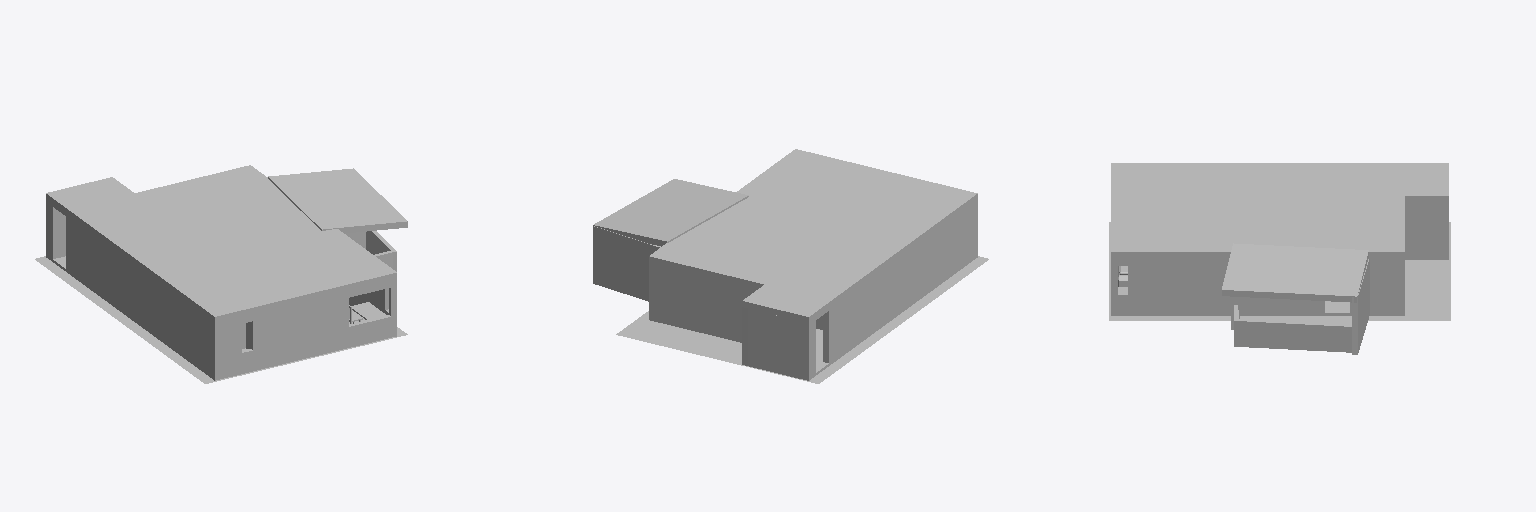
Rendered from OttoBrandt_2019-01-11.obj.
The picture shows the model from 3 angles: view 1: azimuth 30°, elevation 25°; view 2: azimuth 150°, elevation 25°; view 3: azimuth 270°, elevation 25°; orthographic projection.
Visible parts, largest first — view 1: roof_Cube.002, wall_outer_Cube, Plane; view 2: roof_Cube.002, wall_outer_Cube, Plane; view 3: roof_Cube.002, wall_outer_Cube, Plane.
Part boxes in pixels (x1,y1,x2,y2): roof_Cube.002: (46,165,407,322); wall_outer_Cube: (46,200,396,380); Plane: (35,256,407,383); roof_Cube.002: (593,149,977,322); wall_outer_Cube: (593,200,977,380); Plane: (616,256,988,383); roof_Cube.002: (1111,163,1448,302); wall_outer_Cube: (1111,202,1448,354); Plane: (1109,222,1450,324).
Size of the model in its own units: 9.92 by 2.3 by 10.78.